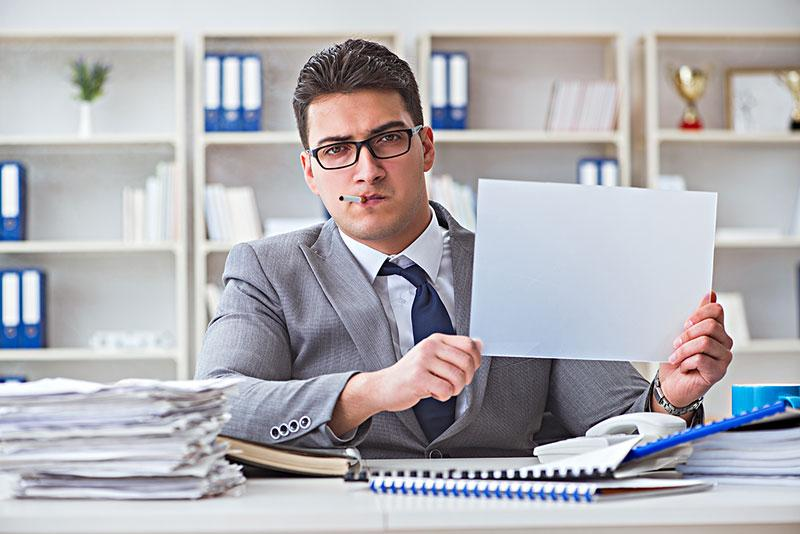smoke: (333, 183, 372, 211)
